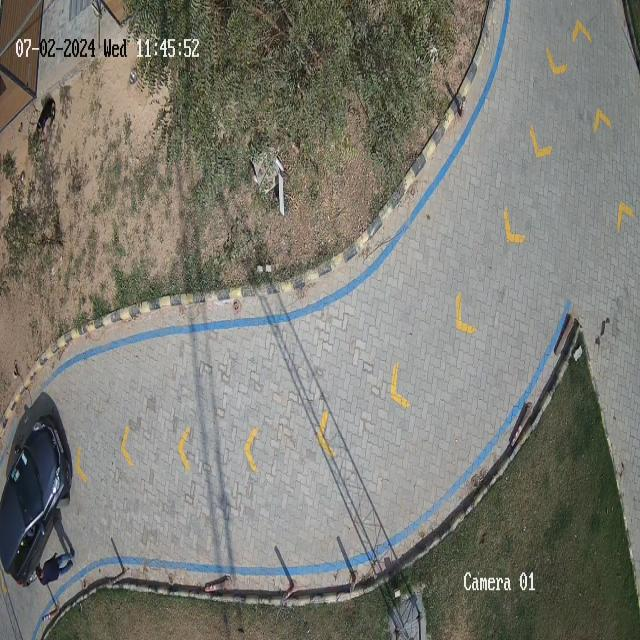car: (0, 393, 72, 586)
